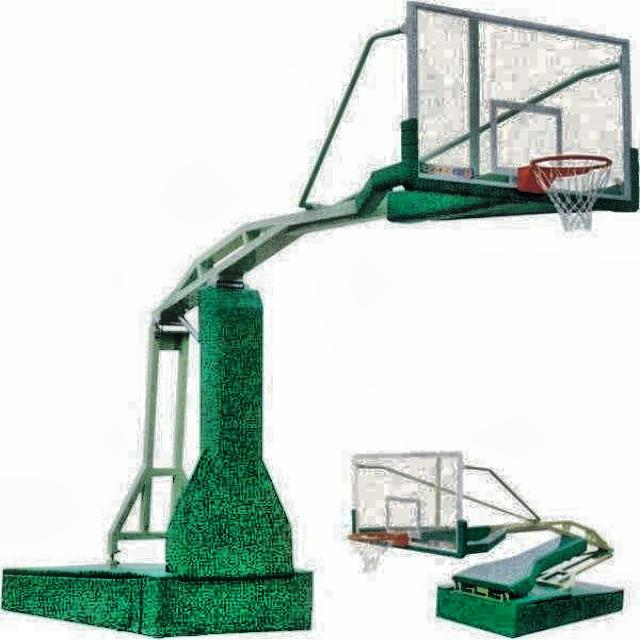rim: (532, 154, 615, 230)
